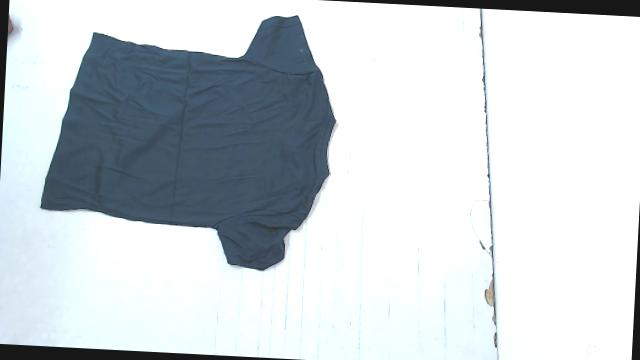new-garment: (41, 15, 335, 269)
